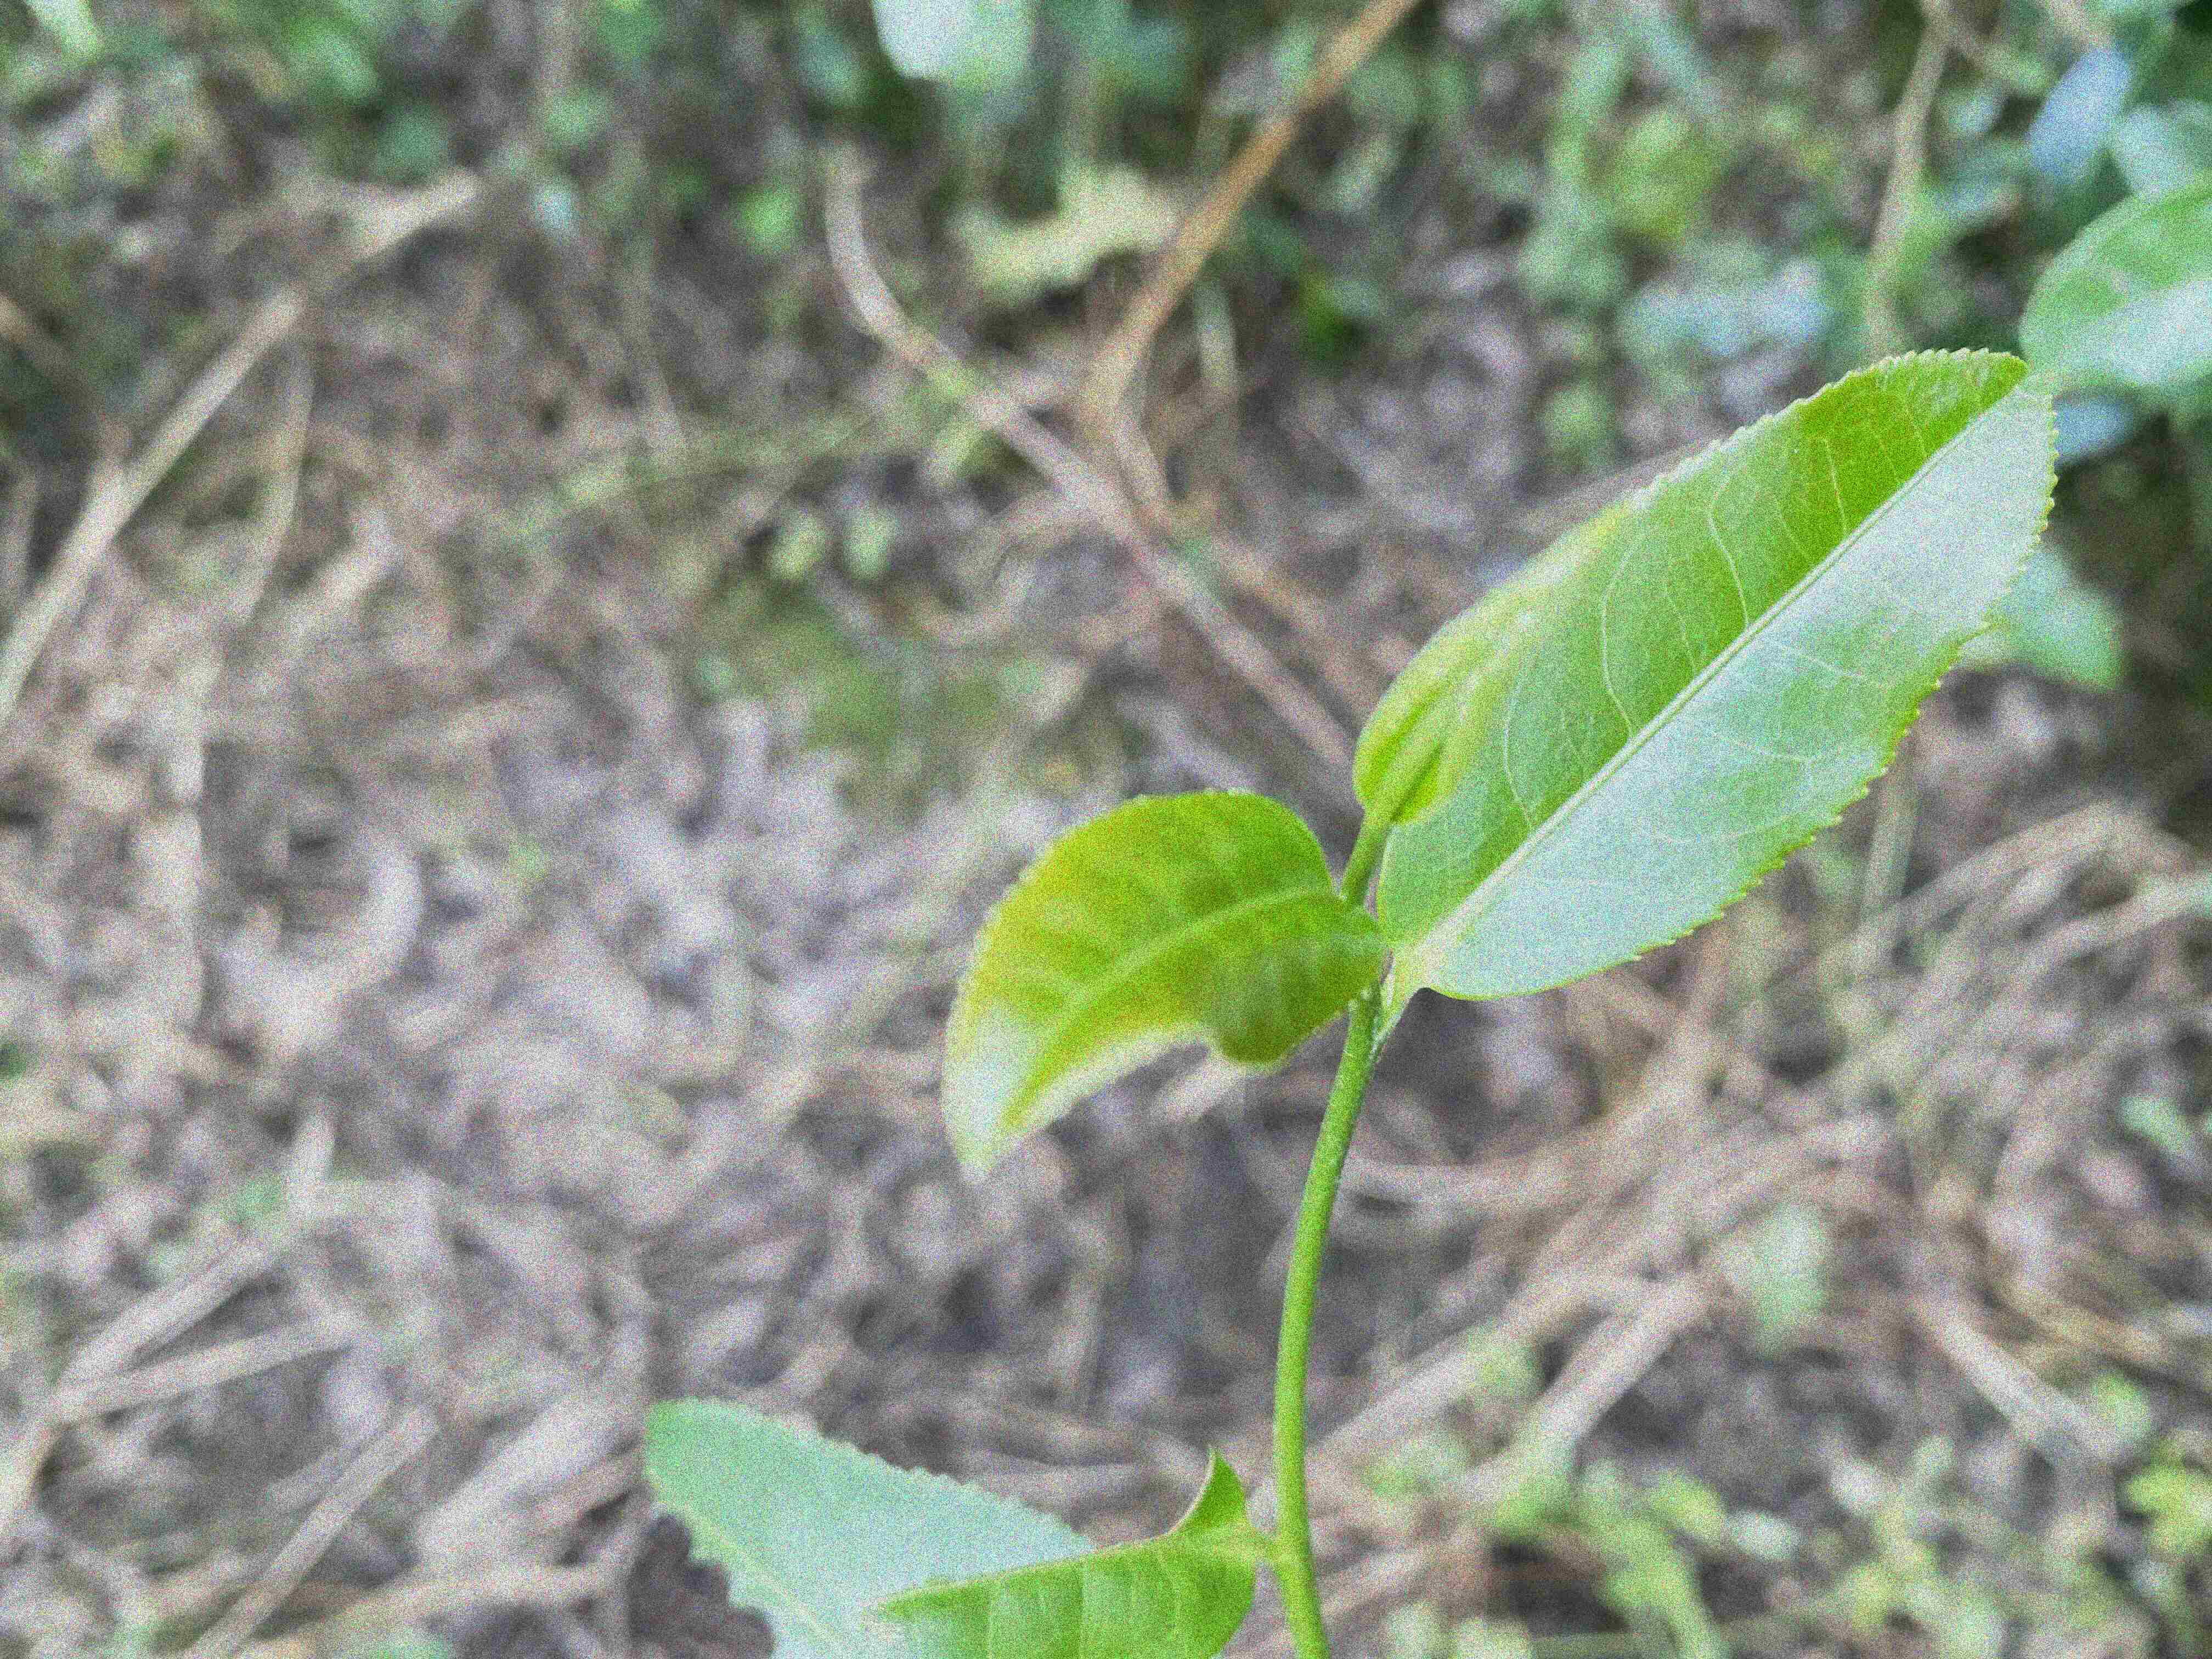chihuo_high: (634, 1392, 1097, 1657), (852, 1441, 1261, 1657)
healthy: (1379, 349, 2062, 1007), (942, 793, 1395, 1183)
